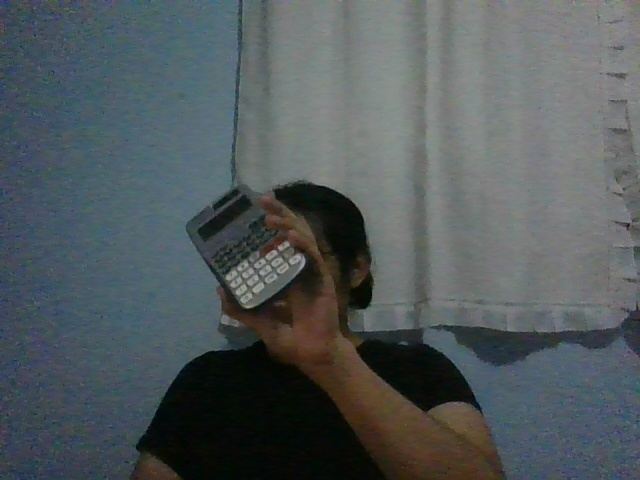calculadora: (184, 184, 305, 310)
